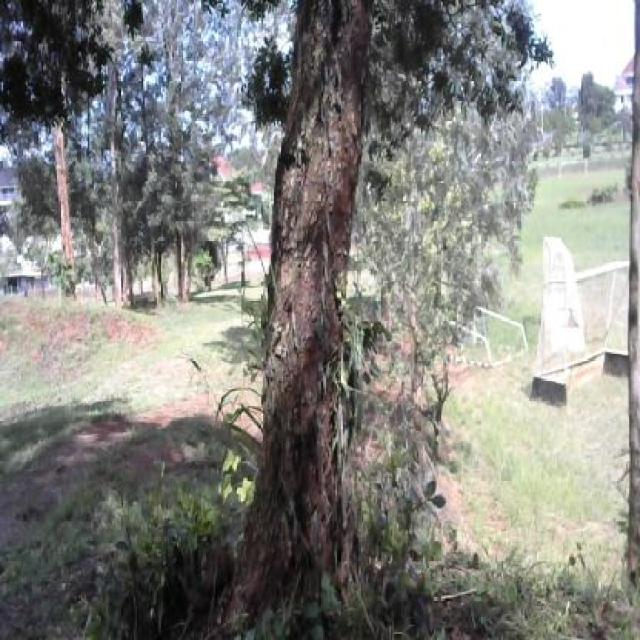tree trunk: (260, 6, 372, 596), (101, 72, 130, 326), (160, 64, 188, 304), (47, 115, 76, 294)
